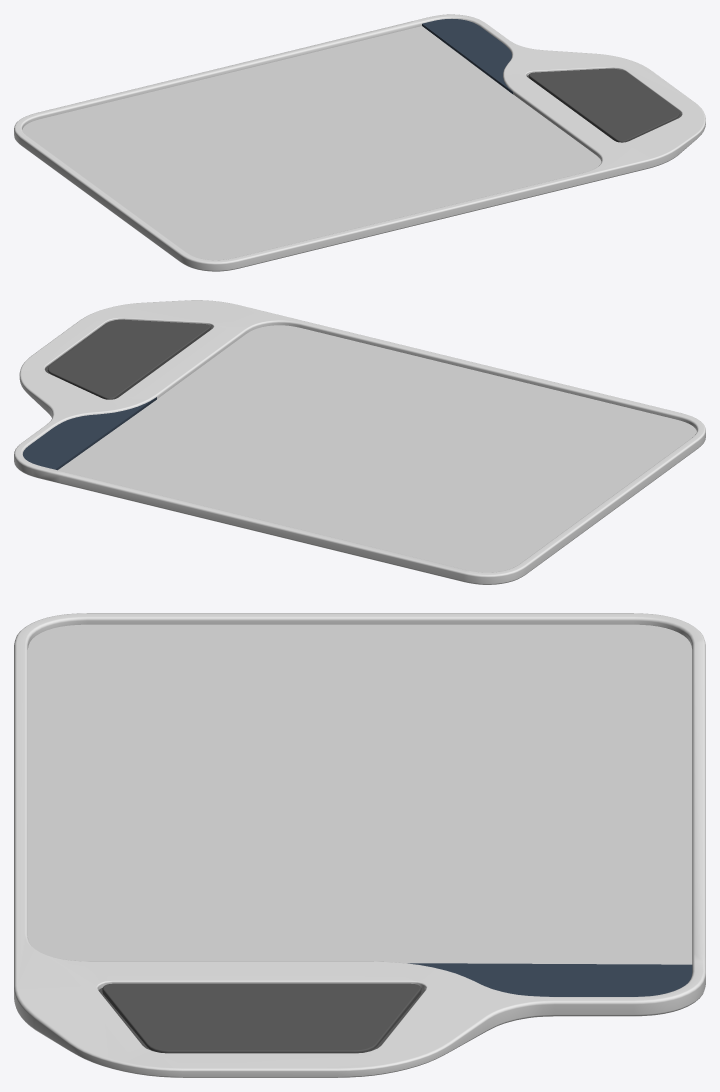
The model's file is tablet_updated.fbx.
The picture shows the model from 3 angles, top to bottom: view 1: azimuth 30°, elevation 25°; view 2: azimuth 150°, elevation 25°; view 3: azimuth 270°, elevation 25°; orthographic projection. The views are drawn at different scales.
Visible parts, largest first — view 1: Sci-fi Tablet; view 2: Sci-fi Tablet; view 3: Sci-fi Tablet.
Boxes of the visible parts, x1,y1,x2,y2 form: Sci-fi Tablet: (14, 14, 705, 271); Sci-fi Tablet: (14, 300, 705, 584); Sci-fi Tablet: (14, 613, 705, 1077).
Size of the model in its own units: 31.14 by 0.5099 by 20.05.
